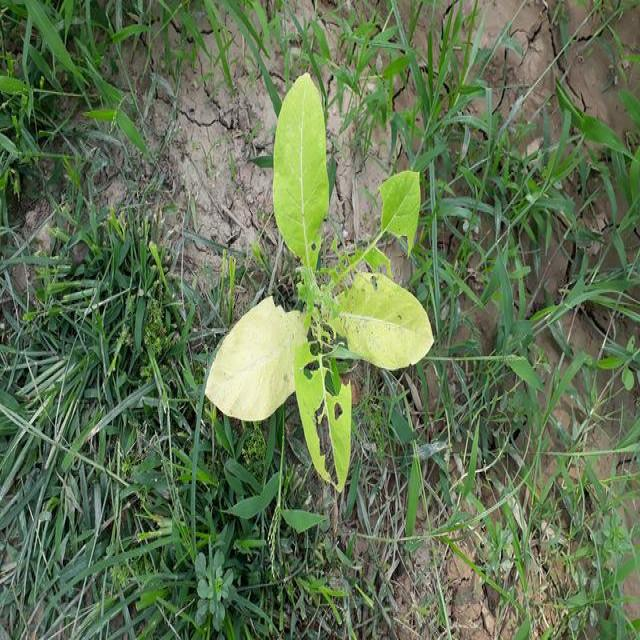crop: (198, 70, 436, 519)
